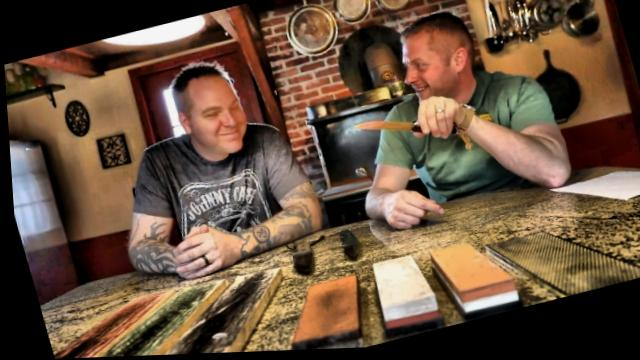knife: (342, 88, 453, 162)
